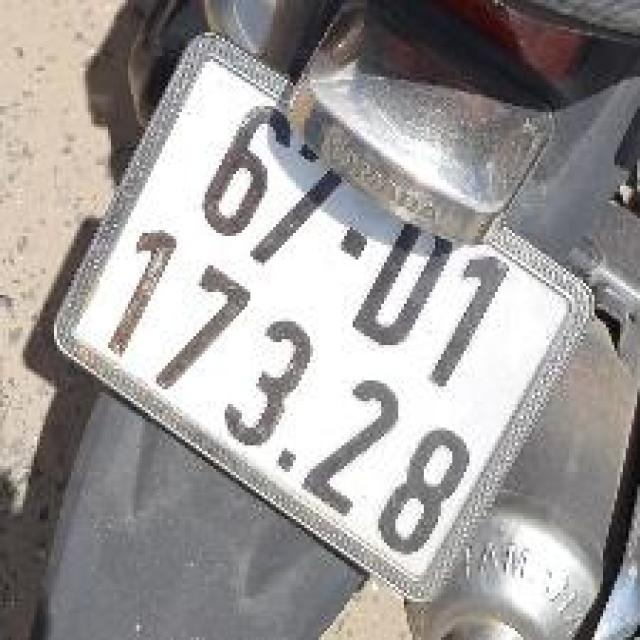1: (406, 236, 535, 406), (88, 214, 205, 378)
2: (292, 363, 430, 533)
3: (208, 299, 336, 465)
6: (189, 81, 317, 258)
7: (239, 116, 375, 289), (136, 247, 269, 417)
8: (365, 415, 487, 570)
D: (331, 186, 480, 367)
